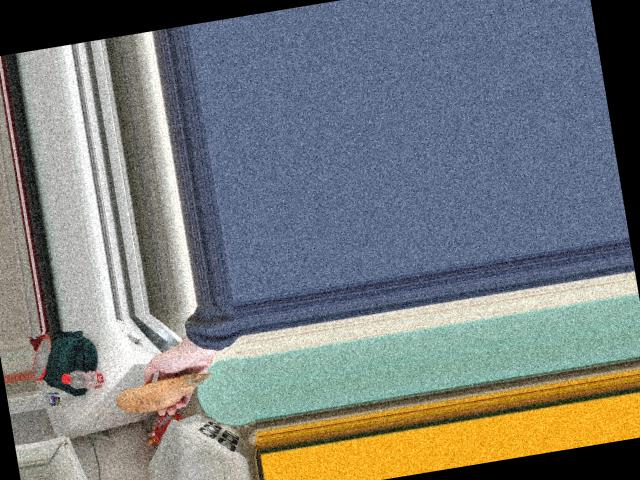sweet_potato: (118, 374, 226, 419)
